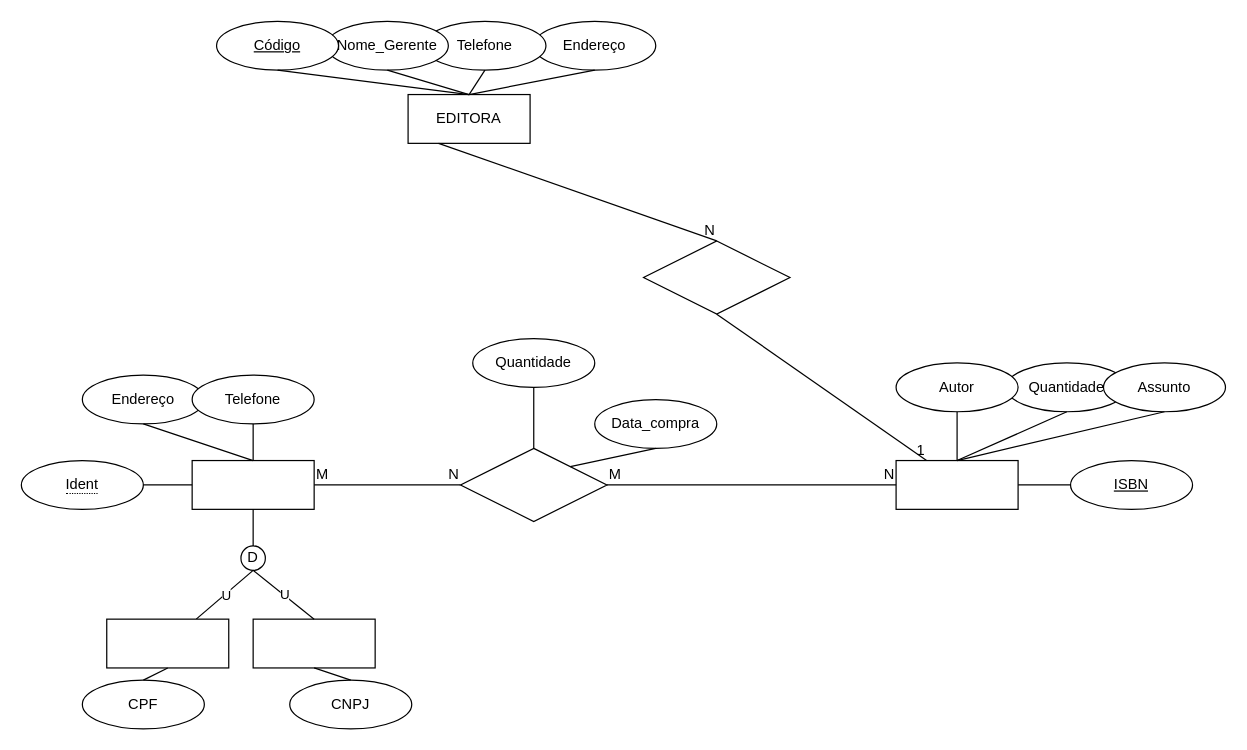
Some shapes in this 1247 by 750 pixel diagram are drawn without their labels. The centre of each missing label's shape, as x and y in pixels:
CLIENTE: (x=252, y=484)
COMPRA: (x=533, y=484)
LIVRO: (x=956, y=484)
P. Física: (x=167, y=643)
P. Jurídica: (x=313, y=643)
PUBLICA: (x=716, y=277)
